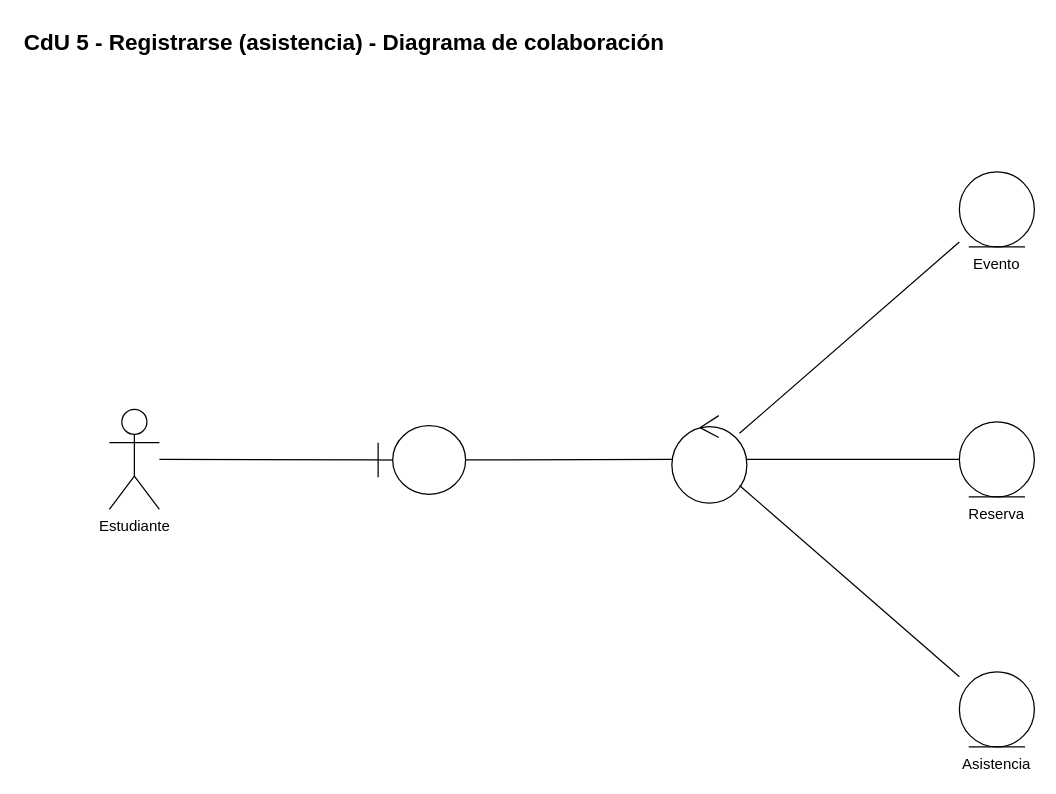
This 1056x794 diagram has some shape labels left out. Here are the shapes that lost their labels. From the top down, the centre of each, then its label:
the point at 421,459: PantallaEventos
the point at 709,458: GestiónAsistencia
